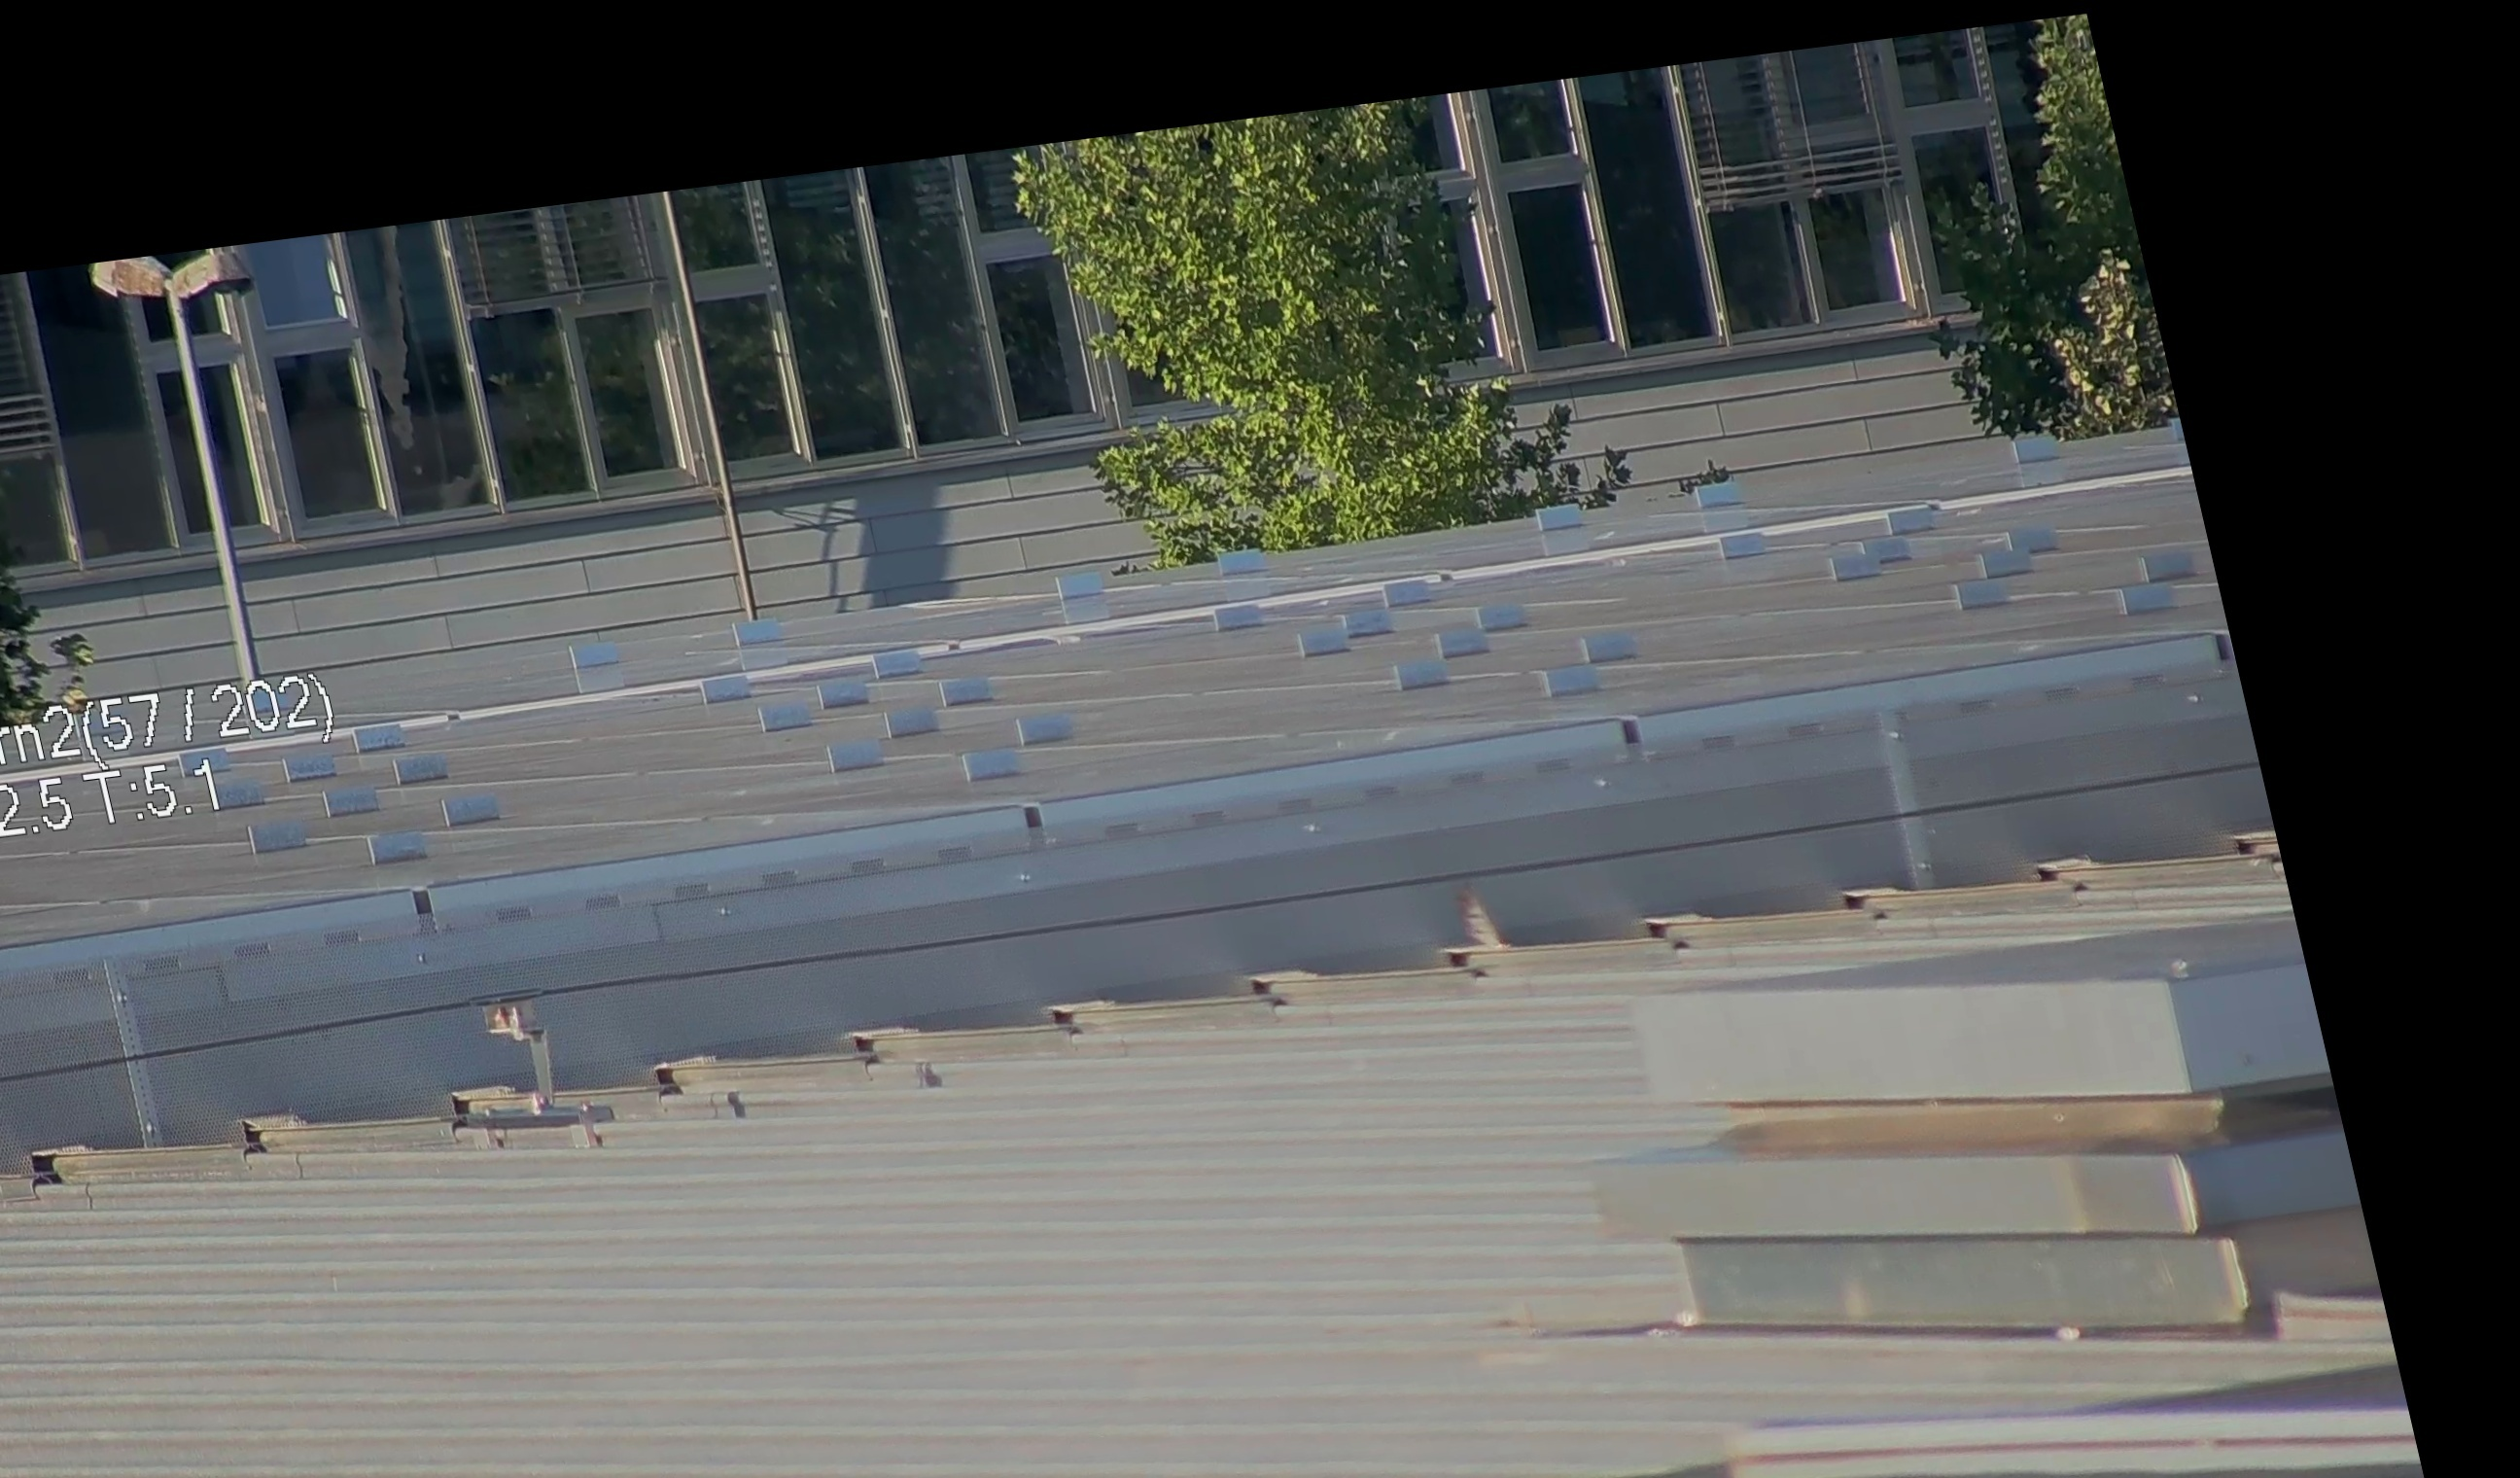Other: (1428, 867, 1530, 991)
